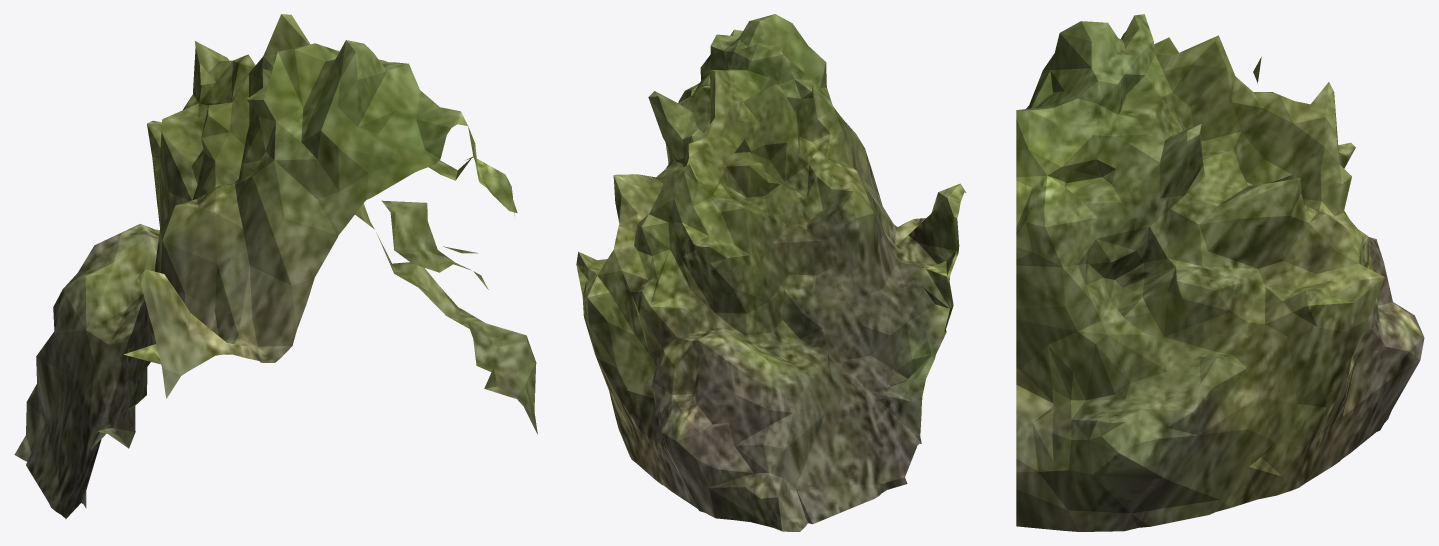
3 views of the same model, side by side, from view 1: azimuth 30°, elevation 25°; view 2: azimuth 150°, elevation 25°; view 3: azimuth 270°, elevation 25° (orthographic). The views are drawn at different scales.
Bounding box in the file's own units: 3.53 × 3.84 × 3.23.
Materials: 2 (2 with a texture image).
